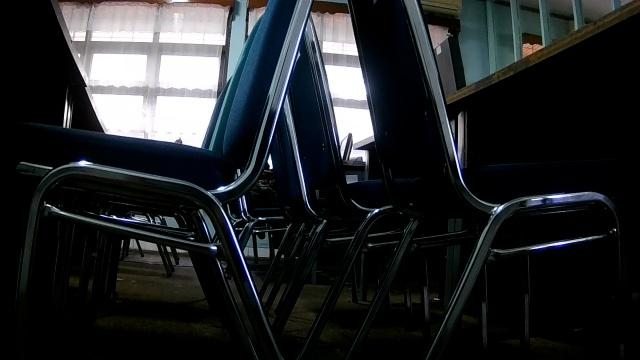Kursi: (0, 0, 312, 359), (344, 0, 622, 359)
